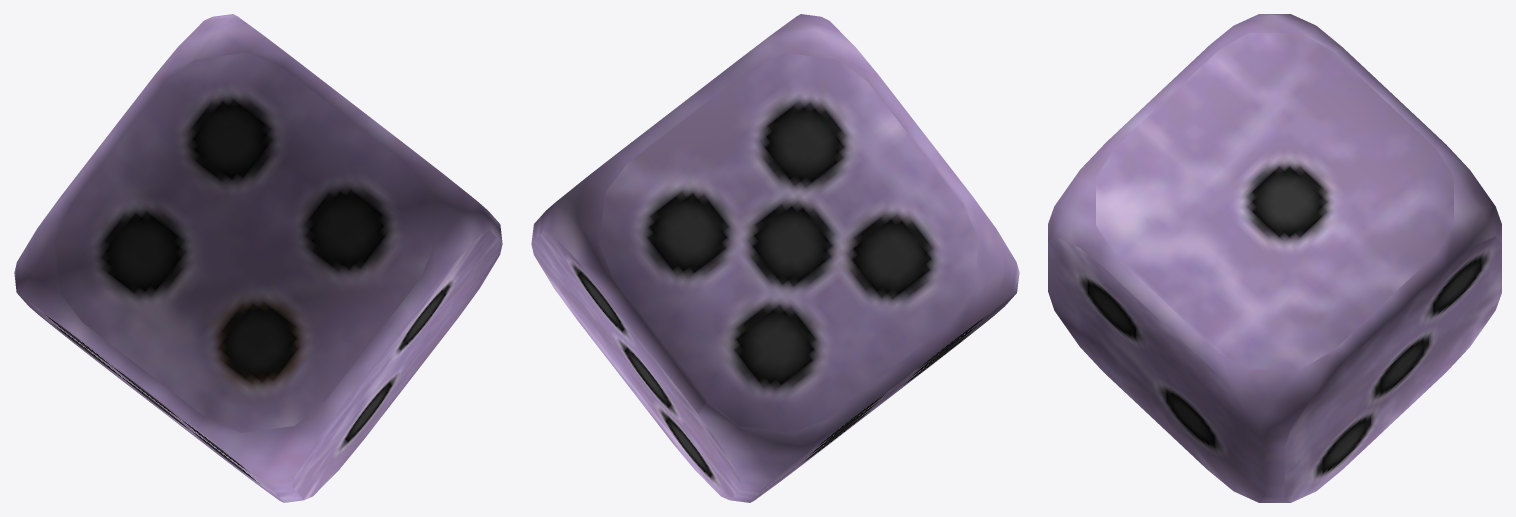
The model's file is WP_MISC_PS2SaveGame.ico.obj.
The picture shows the model from 3 angles, left to right: view 1: azimuth 30°, elevation 25°; view 2: azimuth 150°, elevation 25°; view 3: azimuth 270°, elevation 25°; orthographic projection. The views are drawn at different scales.
Size of the model in its own units: 4.41 by 4.42 by 4.03.
Materials: 1 (1 with a texture image).
